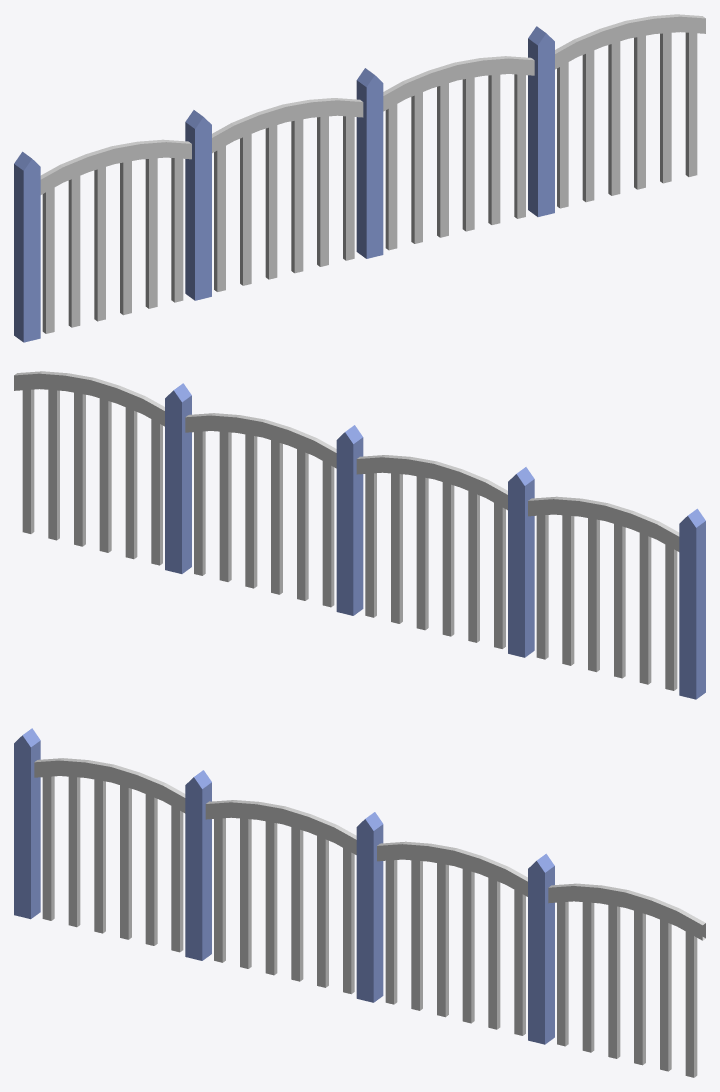
Rendered from Fence.fbx.
3 views of the same model, one above another, from view 1: azimuth 30°, elevation 25°; view 2: azimuth 150°, elevation 25°; view 3: azimuth 330°, elevation 25° (orthographic).
Parts seen in each view (by area): view 1: Cube; view 2: Cube; view 3: Cube.
Part boxes in pixels (<box>): Cube: <box>14,14,705,342</box>; Cube: <box>14,371,705,699</box>; Cube: <box>14,728,705,1077</box>.
Bounding box in the file's own units: 809 × 205 × 20.
